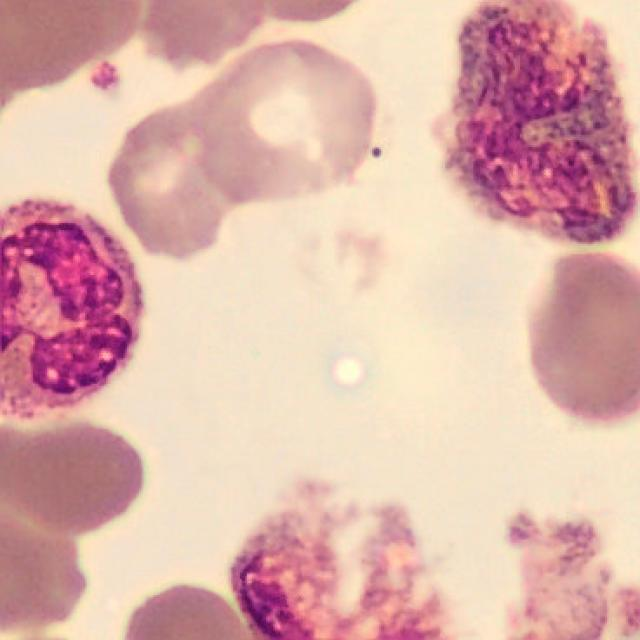Neutrofilo segmentado: (0, 197, 143, 422)
Restos celulares: (433, 0, 638, 249)
